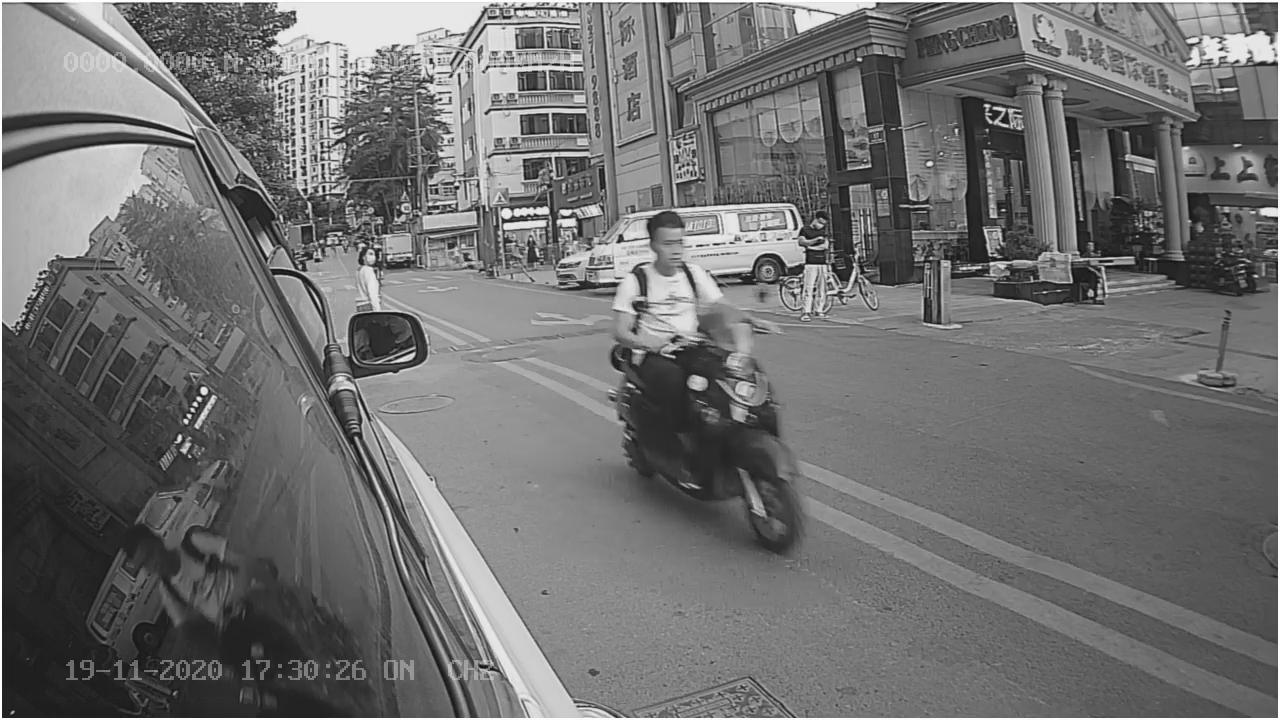person: (605, 210, 725, 337)
